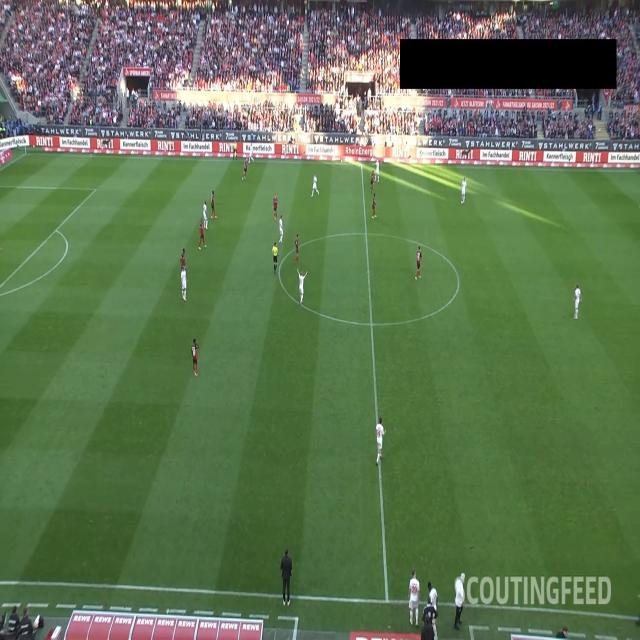ball: (461, 200, 464, 204)
